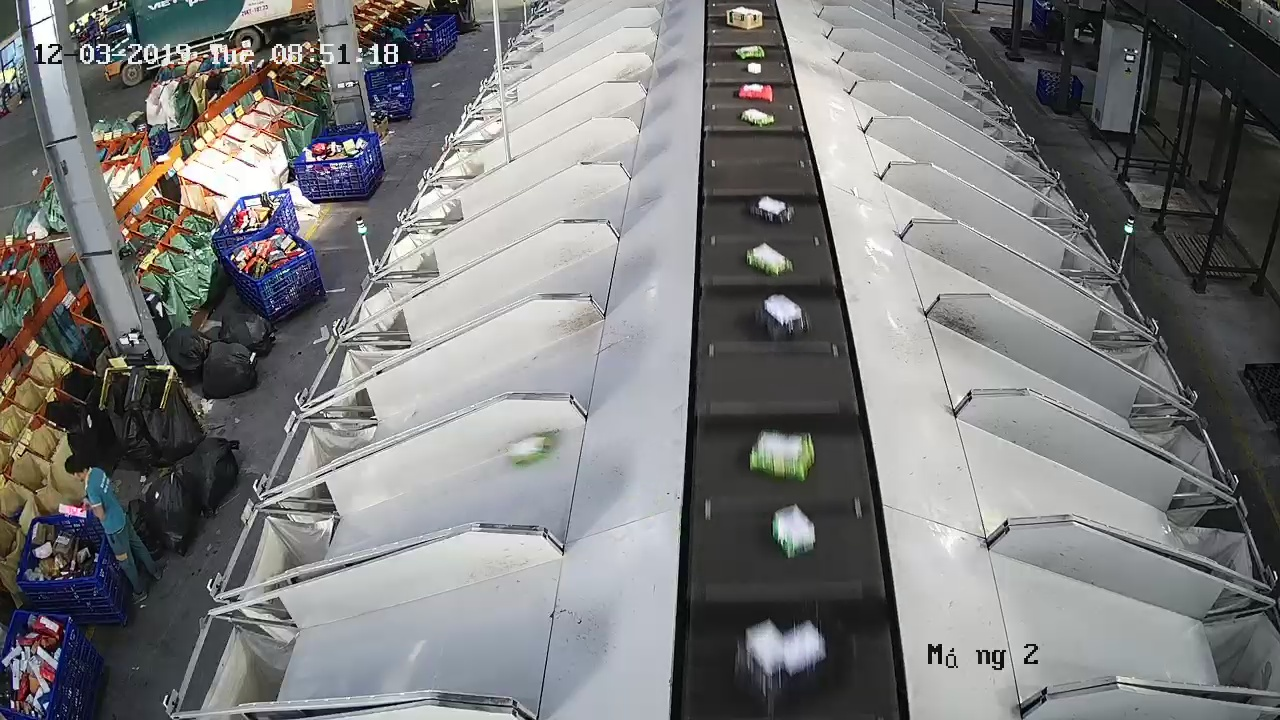parcel: (730, 597, 854, 719), (748, 427, 817, 484), (754, 294, 813, 343), (769, 502, 818, 560), (745, 241, 795, 279), (504, 433, 554, 469), (747, 194, 796, 225), (739, 106, 776, 128)
